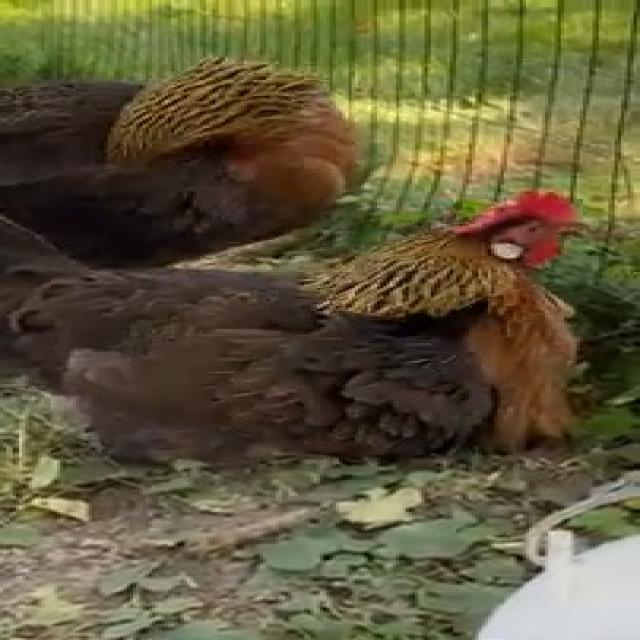self preening: (0, 48, 390, 279)
